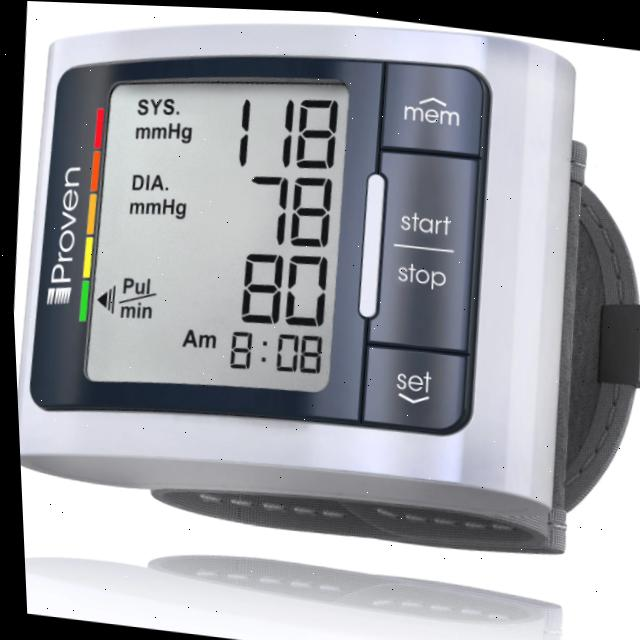dia: (236, 167, 336, 249)
pul: (225, 242, 329, 330)
ssd: (77, 57, 351, 402)
sys: (224, 90, 338, 175)
